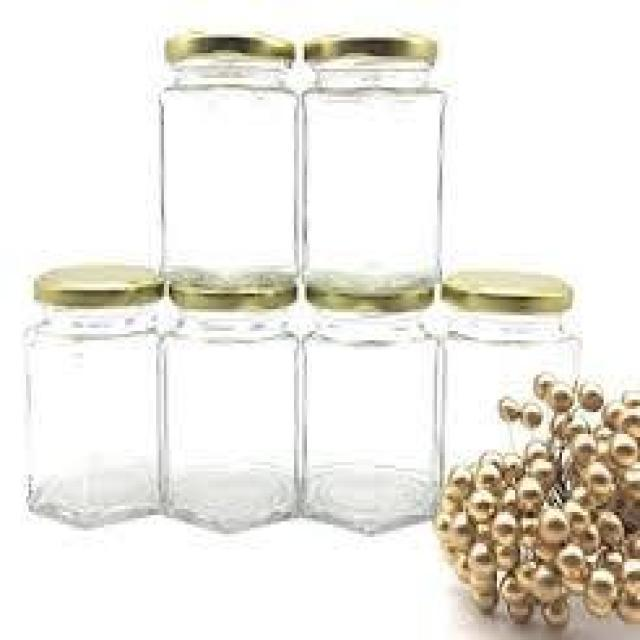Glass: (292, 271, 442, 541), (21, 264, 168, 532), (156, 268, 302, 534), (437, 268, 583, 531), (302, 34, 445, 296), (155, 27, 298, 276)
